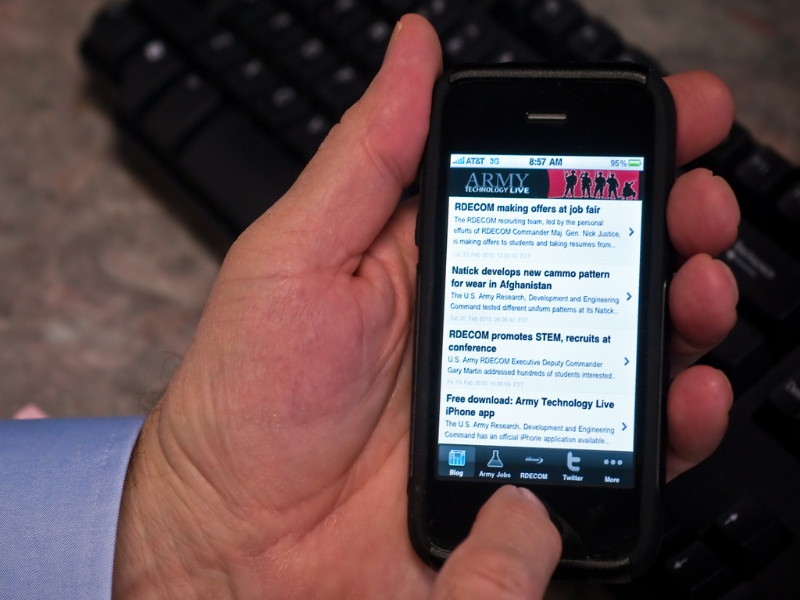cellphone: (422, 67, 668, 583)
